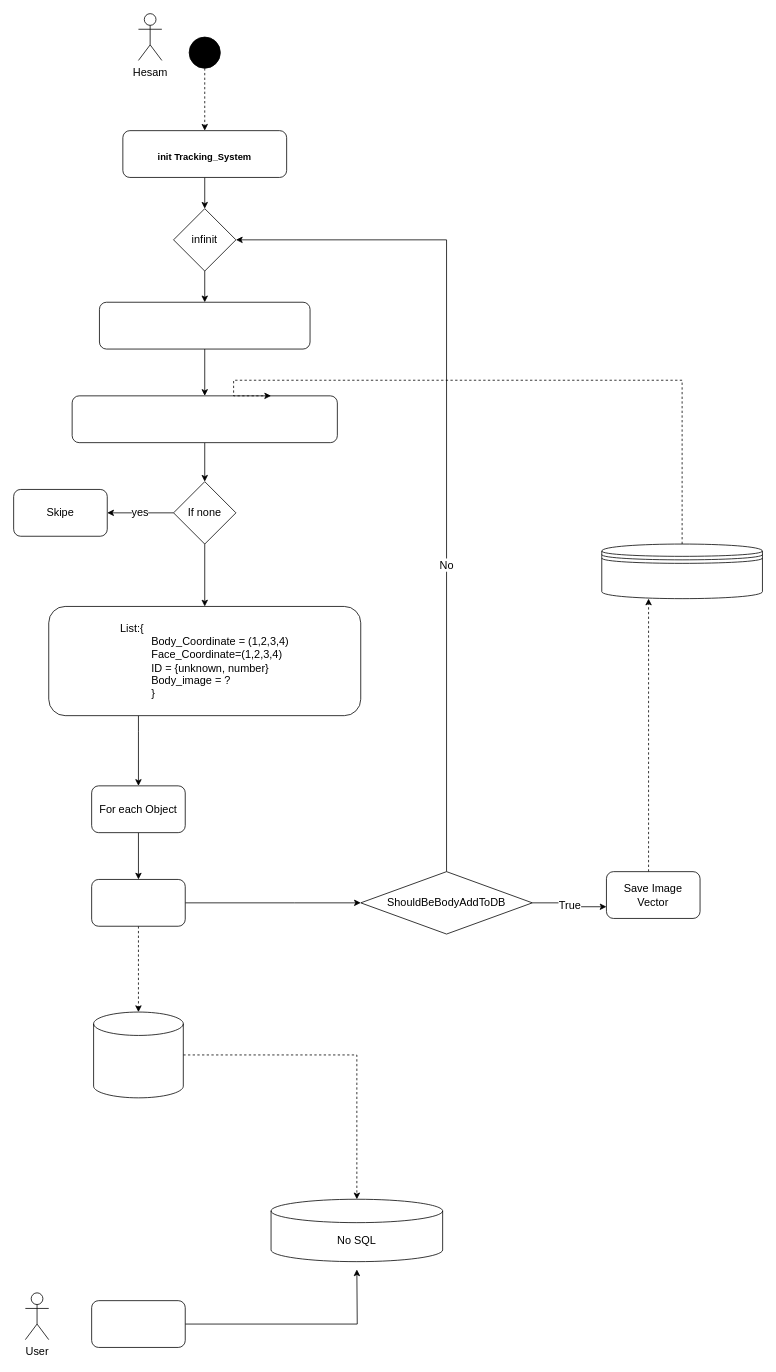
Some shapes in this 776 by 1372 pixel diagram are drawn without their labels. The centre of each missing label's shape, as x and y in pixels:
Body Redis vector: (x=681, y=571)
Capture Images From each Camera: (x=204, y=325)
DB - Log - History: (x=138, y=1054)
Report: (x=138, y=1323)
Save Object to Database: (x=138, y=902)
track(self, List<image> , ??? BodyVectors): (x=204, y=419)
